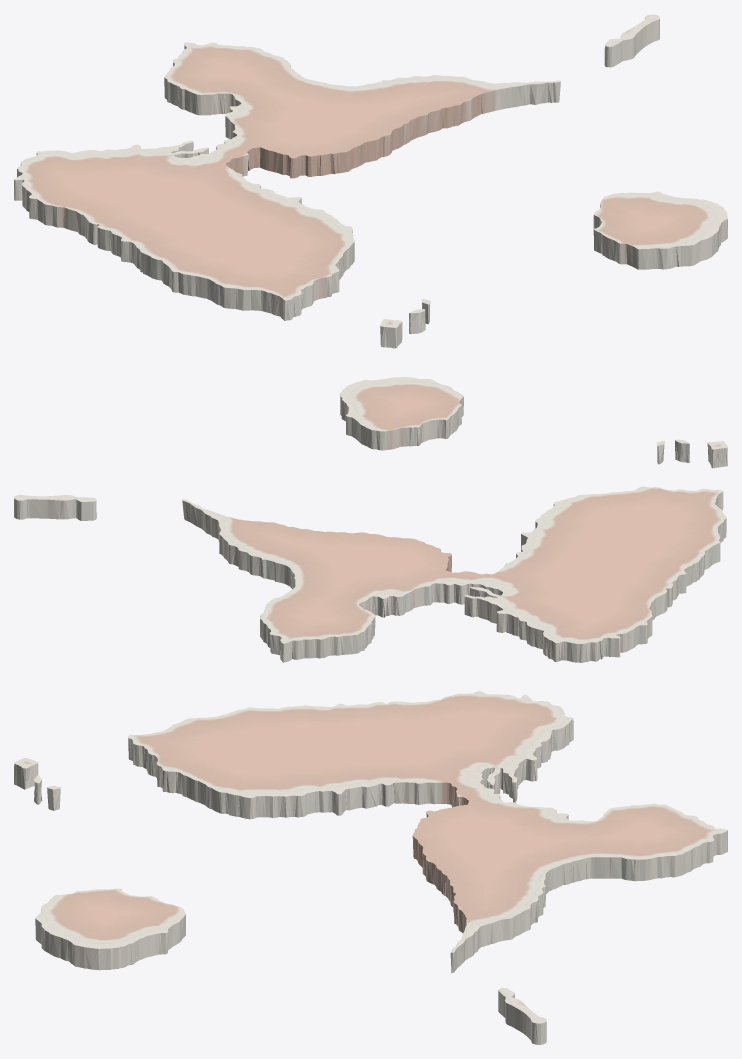
Rendered from guadeloupe.glb.
The picture shows the model from 3 angles, top to bottom: view 1: azimuth 30°, elevation 25°; view 2: azimuth 150°, elevation 25°; view 3: azimuth 270°, elevation 25°; orthographic projection. The views are drawn at different scales.
Parts seen in each view (by area): view 1: tripo_node_0c06a748-d7a2-465d-a833-0bc6cf501dd5; view 2: tripo_node_0c06a748-d7a2-465d-a833-0bc6cf501dd5; view 3: tripo_node_0c06a748-d7a2-465d-a833-0bc6cf501dd5.
Boxes of the visible parts, x1,y1,x2,y2 form: tripo_node_0c06a748-d7a2-465d-a833-0bc6cf501dd5: (14, 14, 727, 348); tripo_node_0c06a748-d7a2-465d-a833-0bc6cf501dd5: (14, 377, 727, 662); tripo_node_0c06a748-d7a2-465d-a833-0bc6cf501dd5: (14, 691, 727, 1044).
Size of the model in its own units: 1 by 0.03 by 0.9074.
1 material, 1 textured.
